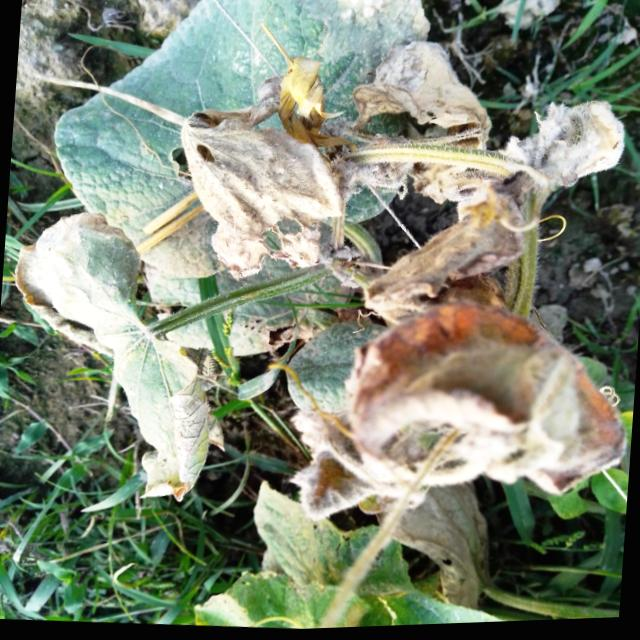Bacterial-Wilt: (182, 78, 348, 280), (353, 37, 492, 153)
